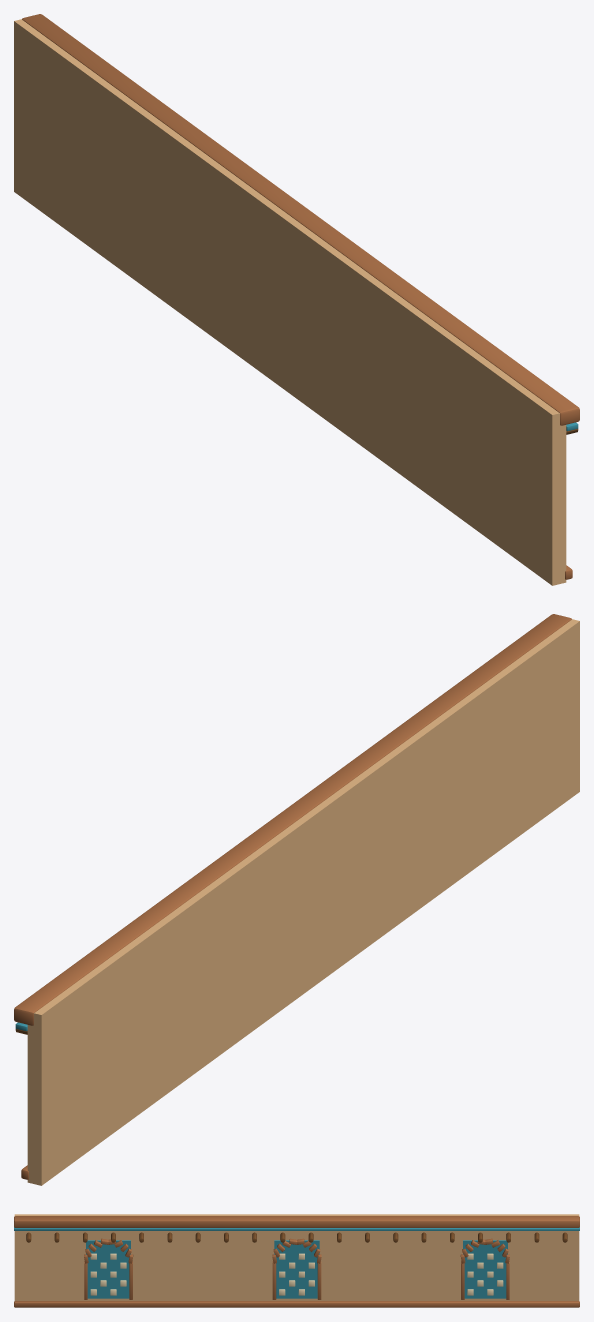
Rendered from WallDesert.fbx.
The picture shows the model from 3 angles, top to bottom: view 1: azimuth 30°, elevation 25°; view 2: azimuth 150°, elevation 25°; view 3: azimuth 270°, elevation 25°; orthographic projection. The views are drawn at different scales.
Parts seen in each view (by area): view 1: WallDesert; view 2: WallDesert; view 3: WallDesert.
Part boxes in pixels (x1,y1,x2,y2): WallDesert: (14,14,579,585); WallDesert: (14,614,579,1185); WallDesert: (14,1214,579,1307).
Size of the model in its own units: 320 by 1410 by 8020.
